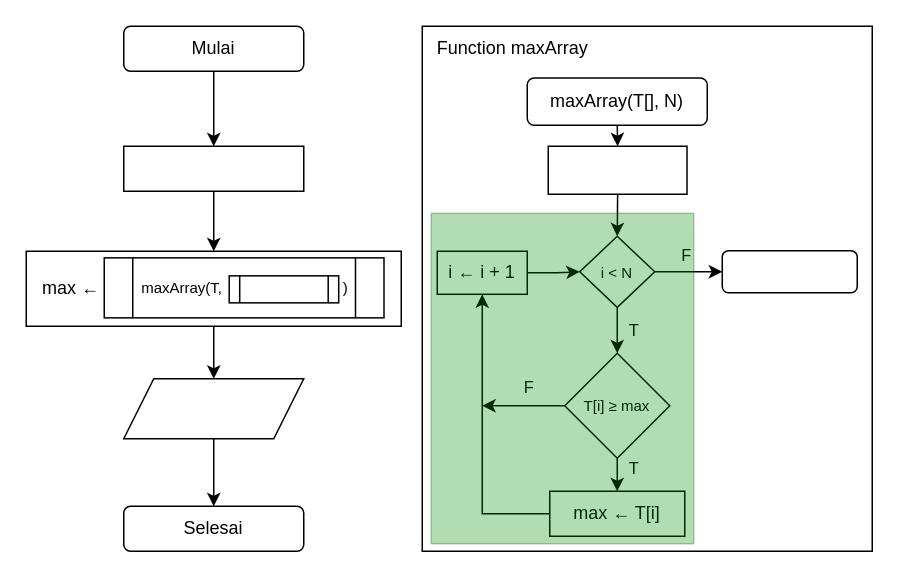
This 899x578 diagram has some shape labels left out. The shapes that lost their labels are listed below. From the top down, each one's centre as x and y in pixels, then its label:
At [213,168]: "T ← [5, 4, 3, 2, 1]".
At [617,169]: "max ← T[0] i ← 1".
At [283,288]: "len(T)".
At [789,271]: "return (max)".
At [213,408]: "output(max)".
